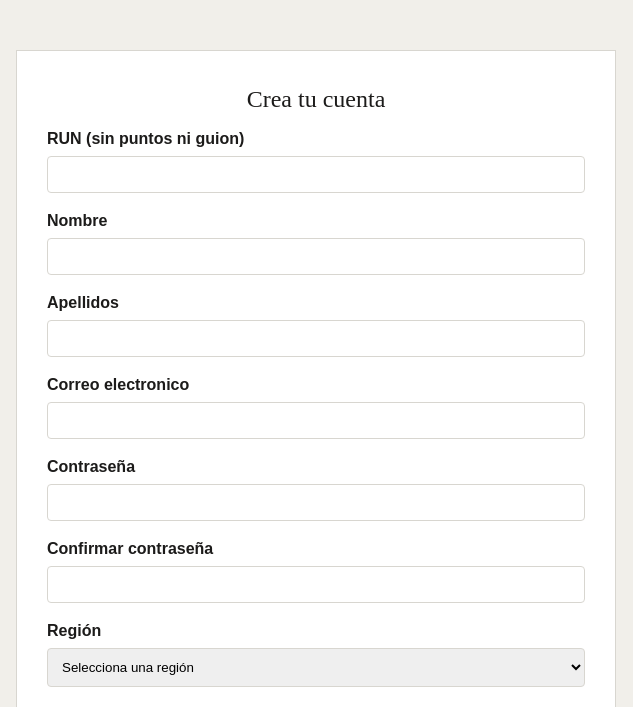
Test case: Registro › rechaza un RUN invalido
This screenshot has width=633, height=707.
Type "12" into the field labelled "RUN (sin puntos ni guion)".
click(316, 174); type("12")  # box [47,156,585,193]
(page scrolled)
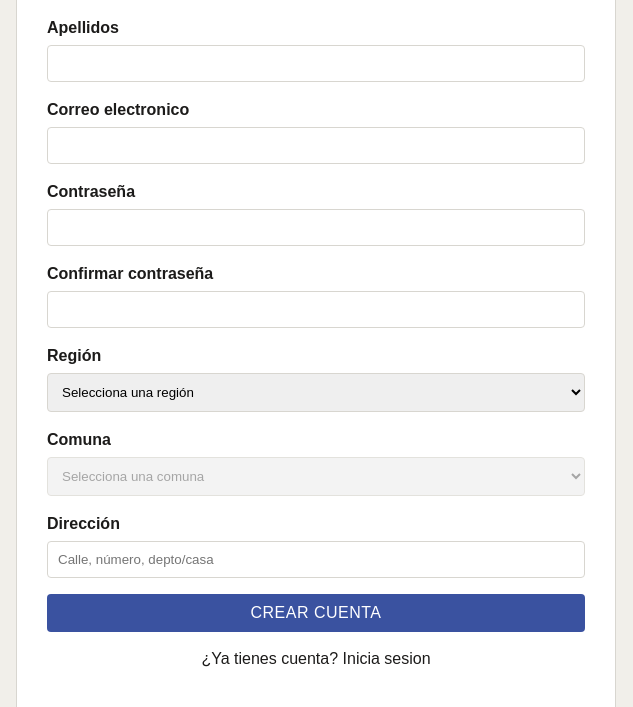
Click the button "Crear cuenta".
click(316, 613)  # box [47,594,585,632]
(page scrolled)
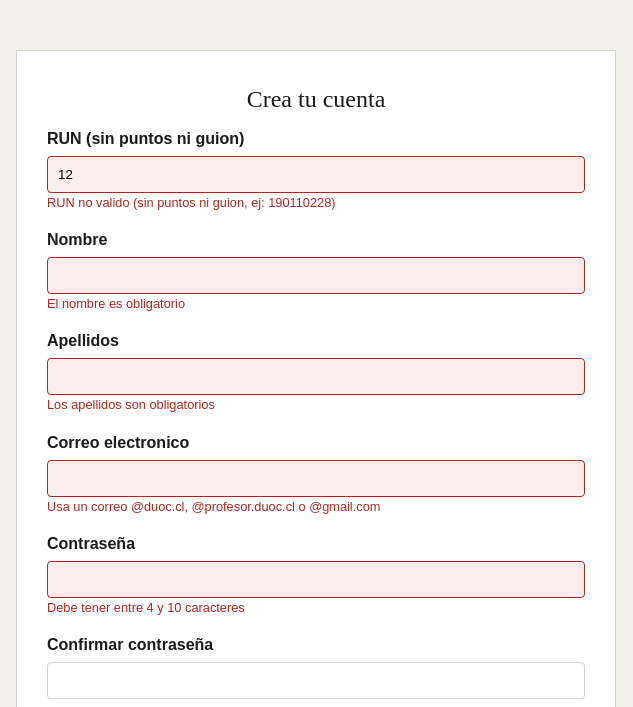
Result: the text "RUN no valido (sin puntos ni guion, ej: 190110228)" is shown at [47,195,336,210]
